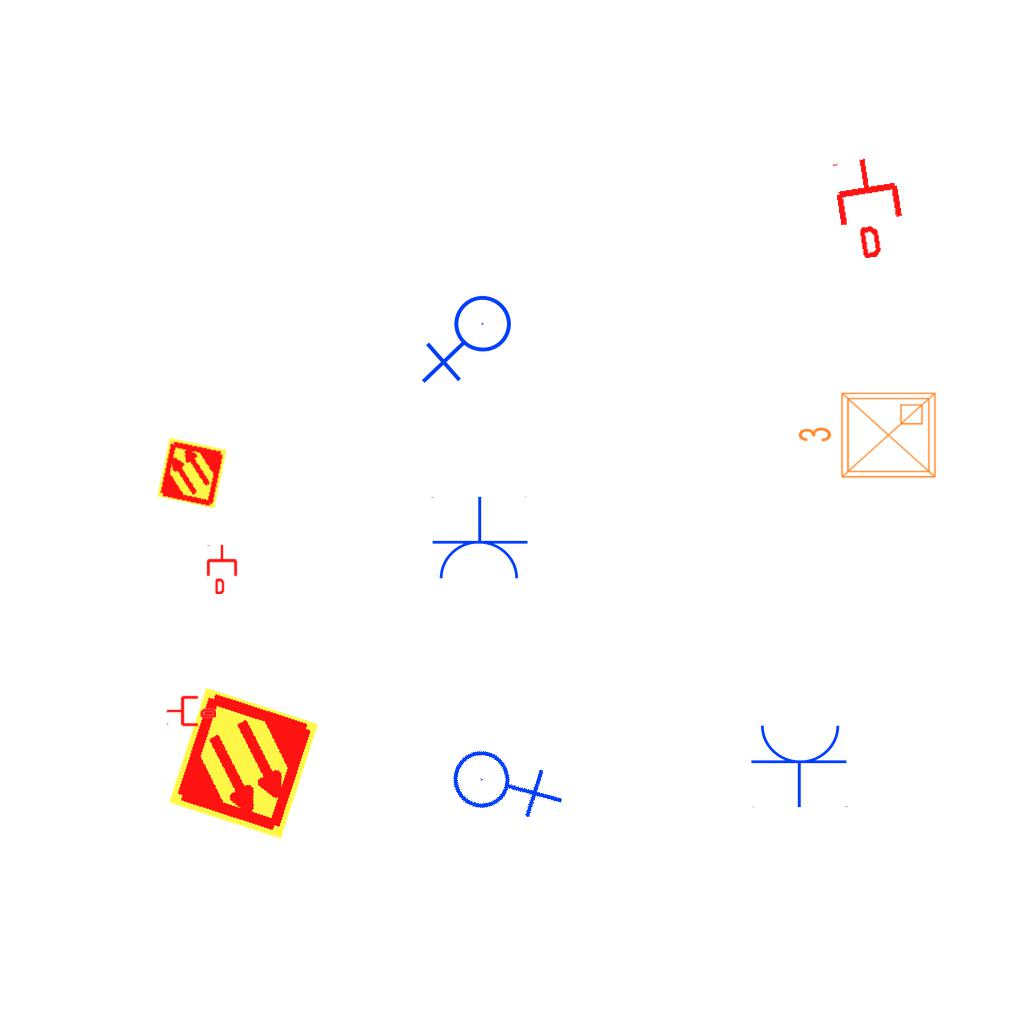ASR_Ansaugrauchmelder: (164, 684, 323, 843), (155, 436, 229, 510)
Datenanschluss_einfach: (827, 152, 912, 262), (205, 544, 239, 594), (166, 694, 216, 728)
Einbaudownlights_LED_Konferenzraeume: (793, 385, 943, 489)
Elektroanschluss_allgemein_230V_Geraeteanschlussdose_230V: (436, 714, 569, 848), (421, 294, 520, 388)
Schukosteckdose_einfach: (429, 496, 529, 583), (750, 721, 850, 808)
